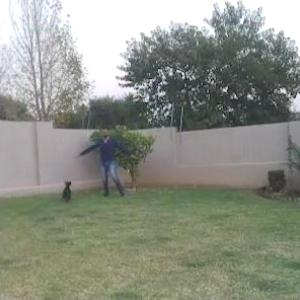land: (81, 113, 151, 208)
